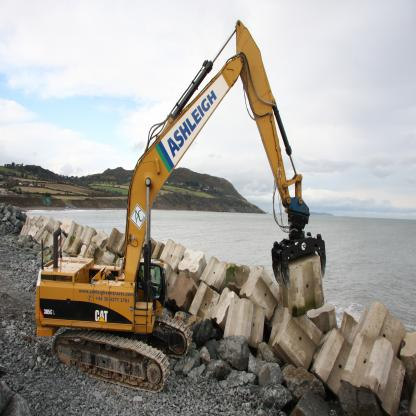excavator: (17, 13, 323, 392)
